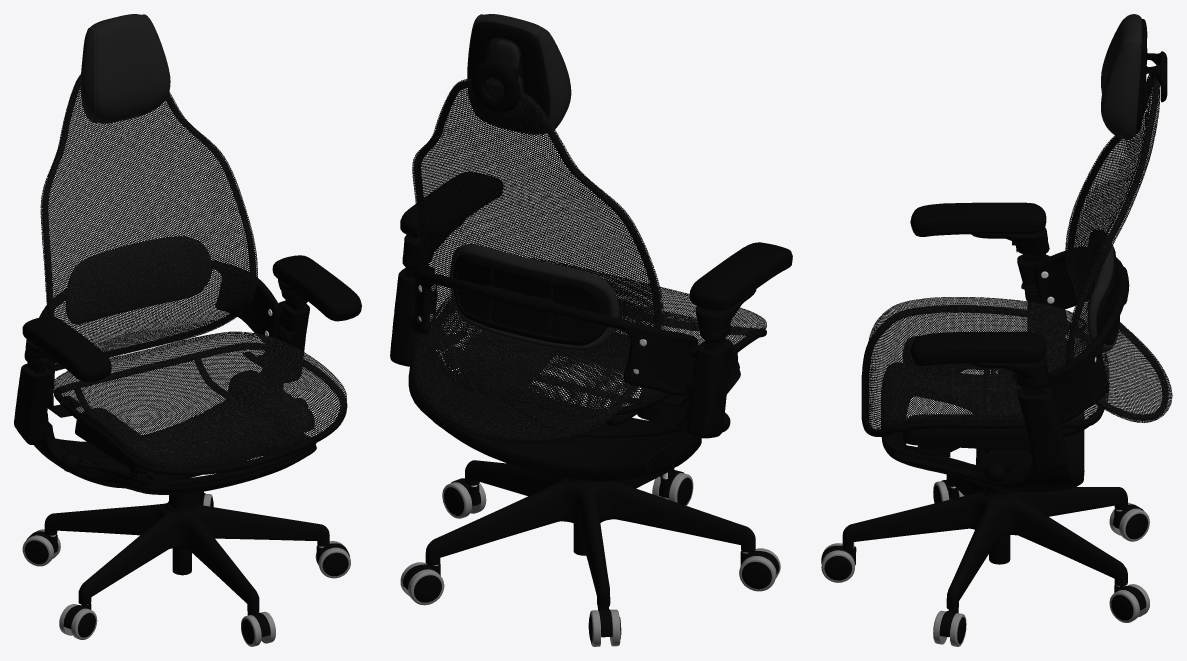
File: 28 - BÄSTBOLL - 電競椅, 黑色Mjuk 黑色 IKEA 線上購物.glb
3 renders of one model, left to right at view 1: azimuth 30°, elevation 25°; view 2: azimuth 150°, elevation 25°; view 3: azimuth 270°, elevation 25°, orthographic. The views are drawn at different scales.
Parts seen in each view (by area): view 1: 90586252_gaming_chair.003, 90586252_gaming_chair.005, 90586252_gaming_chair.008, 90586252_gaming_chair.002, 90586252_gaming_chair.001; view 2: 90586252_gaming_chair.003, 90586252_gaming_chair.005, 90586252_gaming_chair.002, 90586252_gaming_chair.008, 90586252_gaming_chair.001; view 3: 90586252_gaming_chair.005, 90586252_gaming_chair.003, 90586252_gaming_chair.002, 90586252_gaming_chair.008, 90586252_gaming_chair.001.
Boxes of the visible parts, bbox=[...] form: 90586252_gaming_chair.003: bbox=[40, 74, 346, 469]; 90586252_gaming_chair.005: bbox=[14, 75, 347, 613]; 90586252_gaming_chair.008: bbox=[65, 14, 211, 324]; 90586252_gaming_chair.002: bbox=[22, 15, 361, 644]; 90586252_gaming_chair.001: bbox=[22, 494, 350, 646]; 90586252_gaming_chair.003: bbox=[411, 78, 766, 444]; 90586252_gaming_chair.005: bbox=[390, 80, 784, 607]; 90586252_gaming_chair.002: bbox=[400, 21, 792, 643]; 90586252_gaming_chair.008: bbox=[449, 14, 619, 351]; 90586252_gaming_chair.001: bbox=[400, 473, 780, 646]; 90586252_gaming_chair.005: bbox=[842, 75, 1168, 609]; 90586252_gaming_chair.003: bbox=[863, 73, 1172, 430]; 90586252_gaming_chair.002: bbox=[821, 19, 1167, 643]; 90586252_gaming_chair.008: bbox=[1087, 14, 1146, 351]; 90586252_gaming_chair.001: bbox=[821, 481, 1149, 646].
Bounding box in the file's own units: 0.69 × 1.2 × 0.6901.
7 materials, 2 textured.
